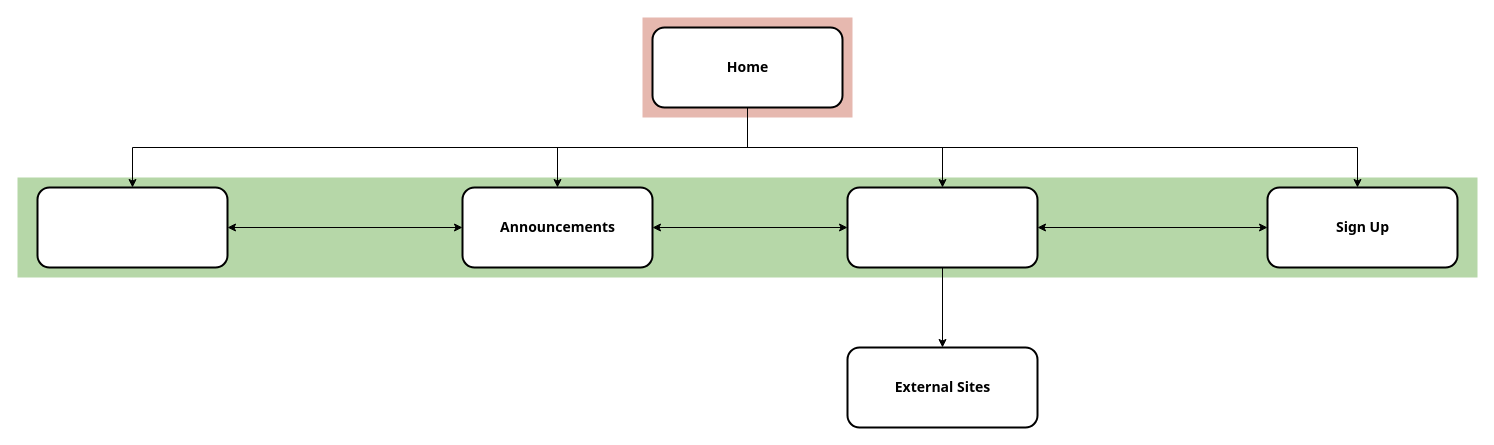
Some shapes in this 1494 by 445 pixel diagram are drawn without their labels. The centre of each missing label's shape, as x and y in pixels:
About: (x=942, y=227)
Guidelines: (x=132, y=227)
